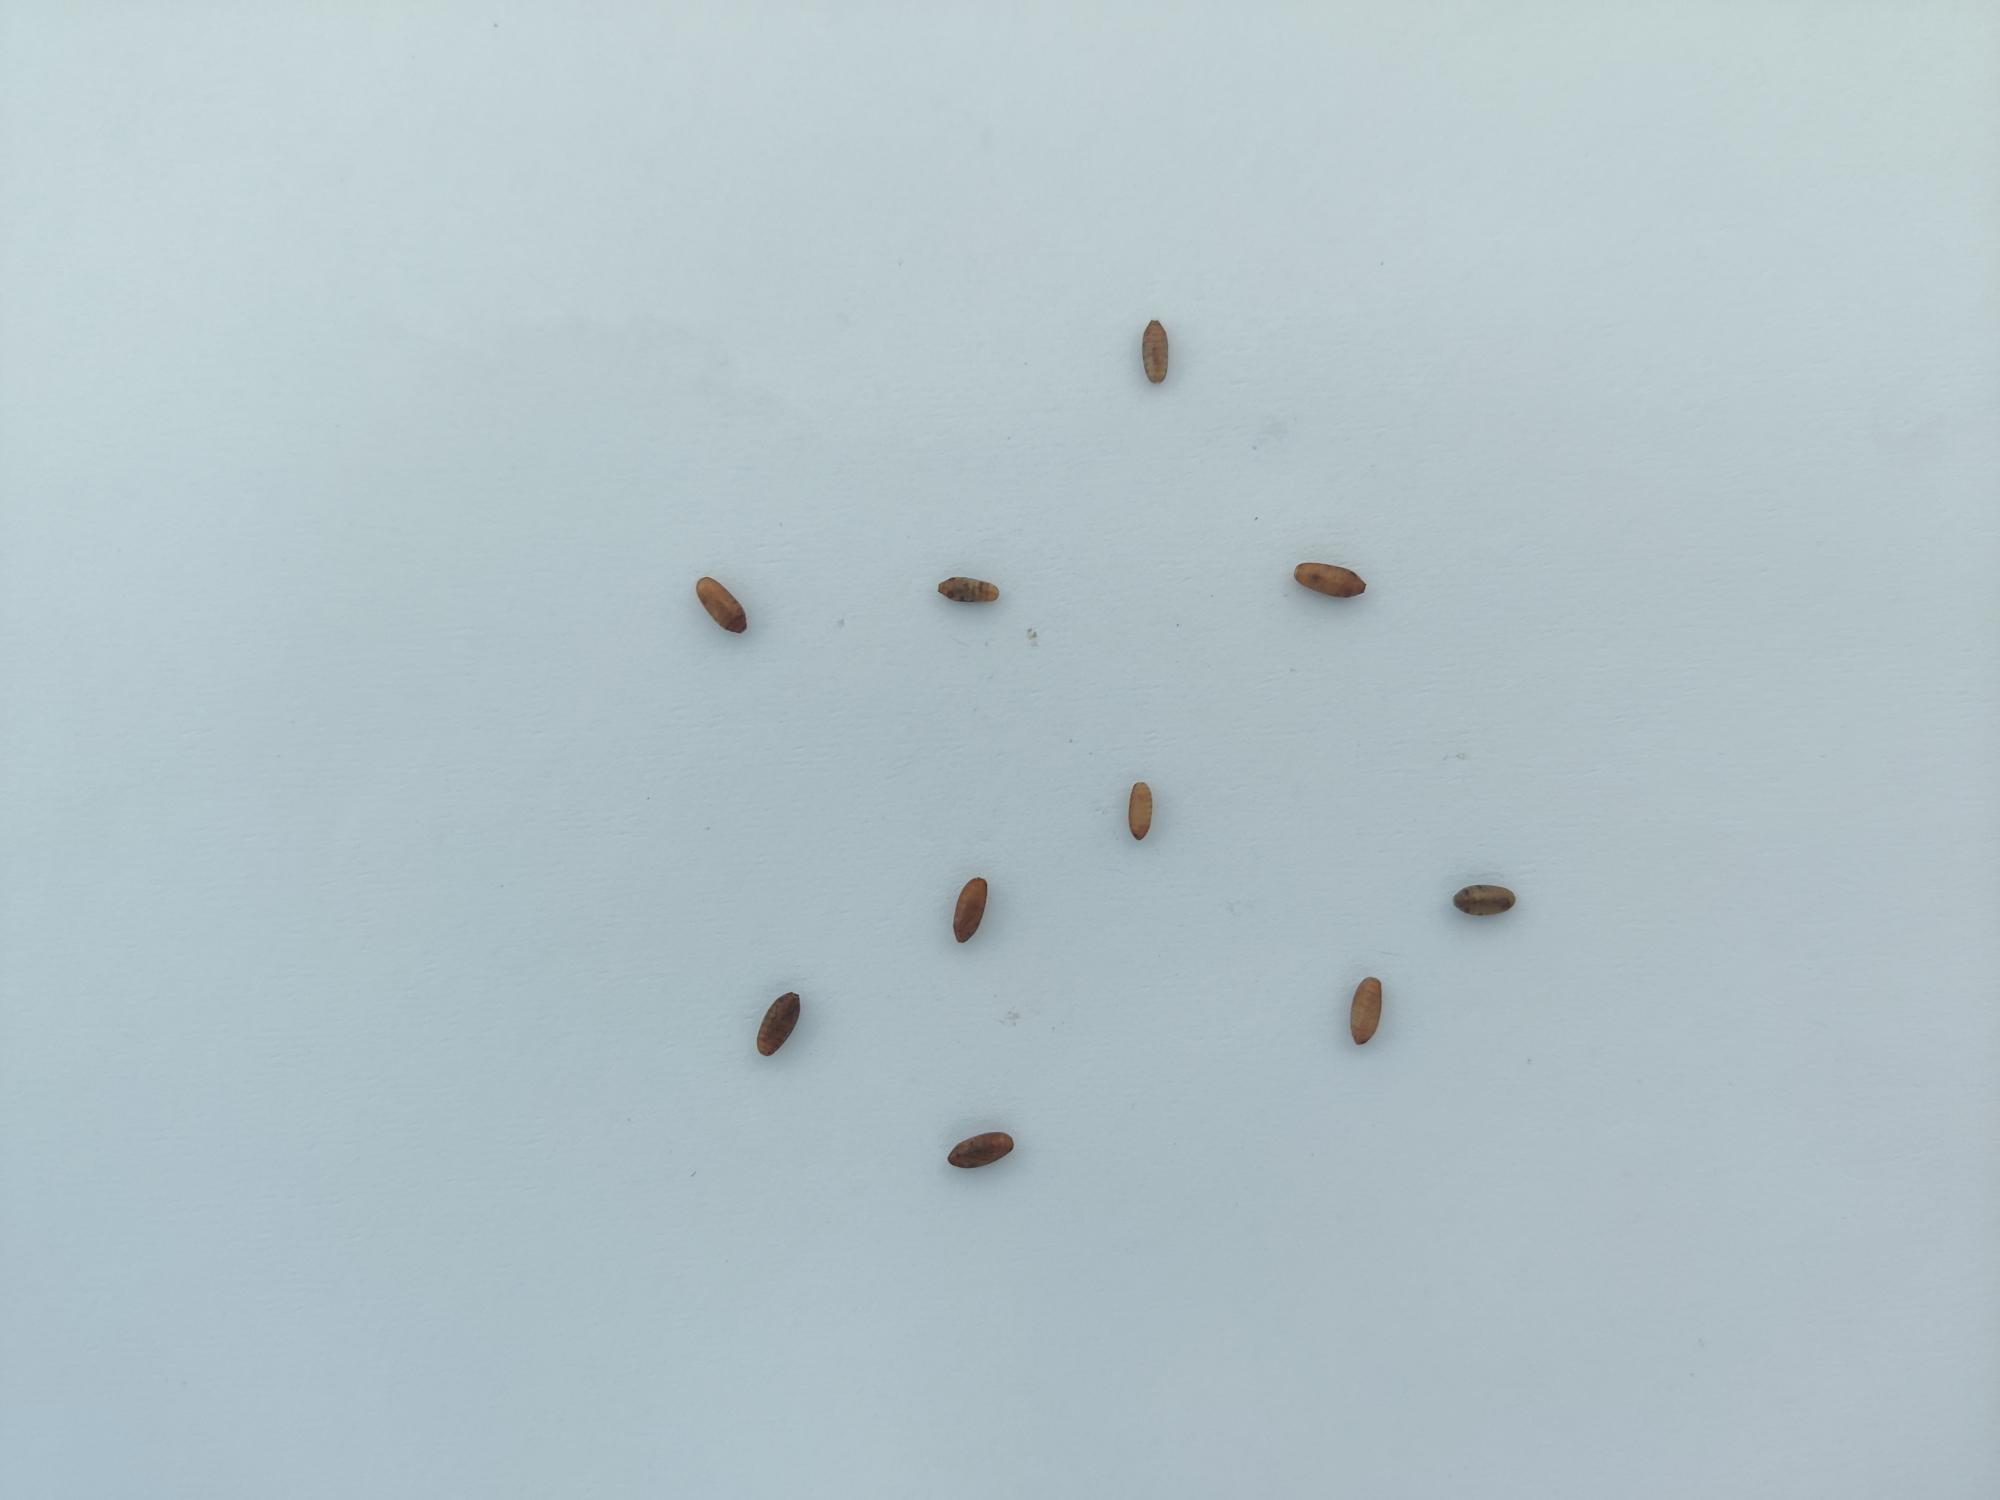pupae: (937, 863, 998, 961), (745, 985, 816, 1068), (932, 1117, 1019, 1183), (680, 569, 756, 643), (1287, 551, 1381, 608), (1132, 310, 1181, 399), (1446, 874, 1523, 926), (929, 566, 1009, 614), (1339, 972, 1391, 1046), (1117, 770, 1164, 851)
